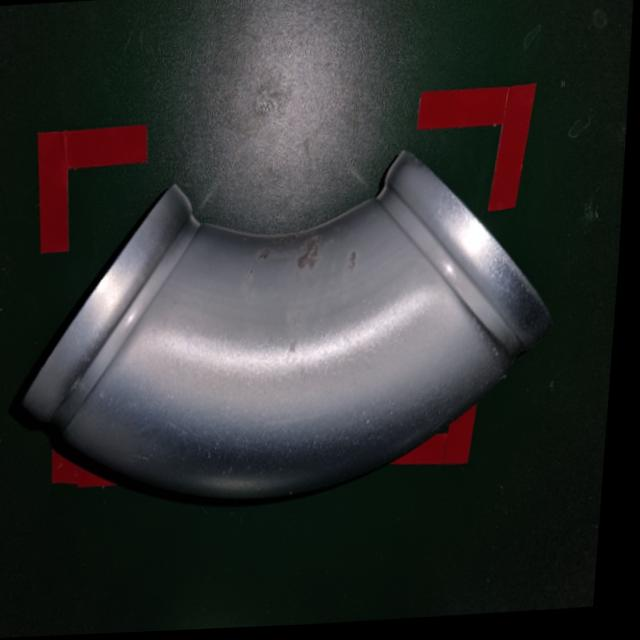Defect: (9, 136, 583, 524)
Hole: (242, 221, 370, 371)
